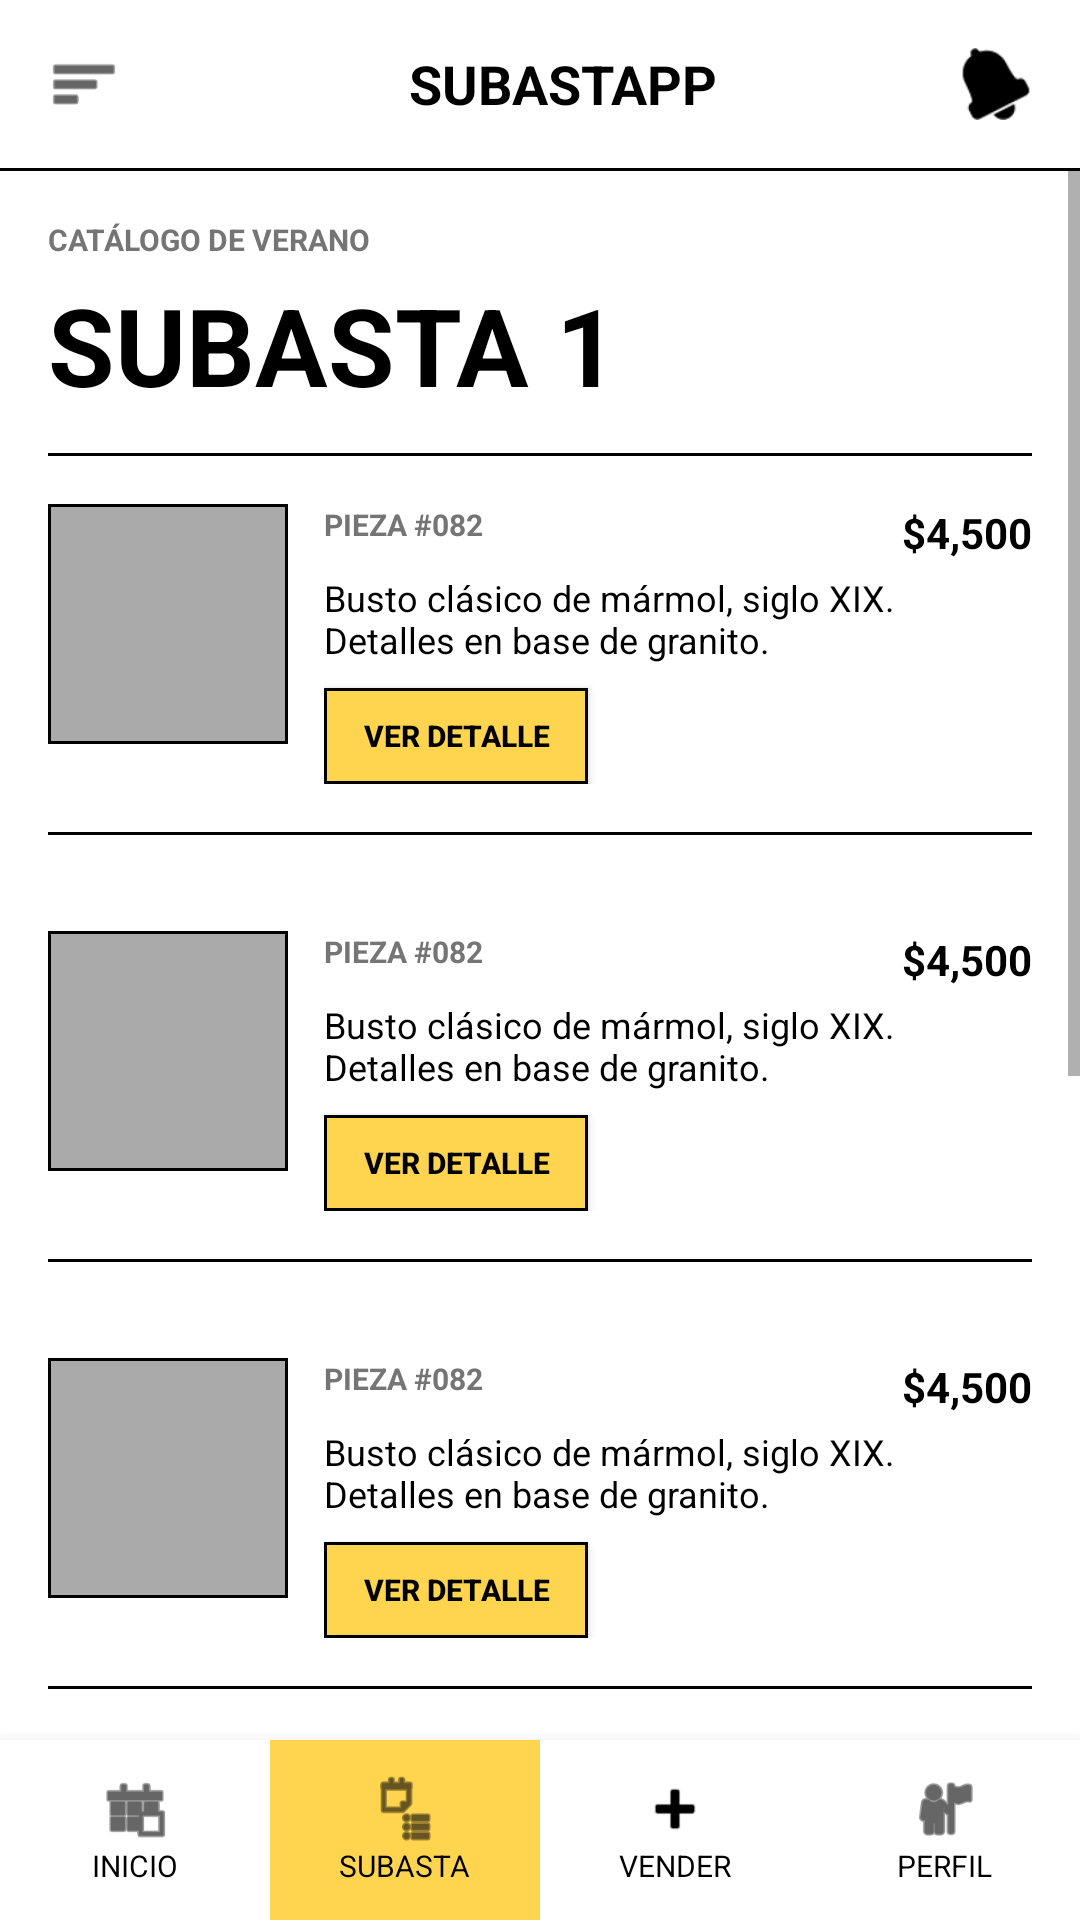

Where icons sit on this 1080×1920 app screen, as (x1, y1, x2, y2):
add: (654, 1789, 696, 1829)
agenda: (380, 1777, 431, 1841)
myplaces: (919, 1782, 973, 1836)
popup reminder: (962, 48, 1030, 120)
sort by size: (53, 64, 115, 105)
today: (106, 1783, 165, 1838)
